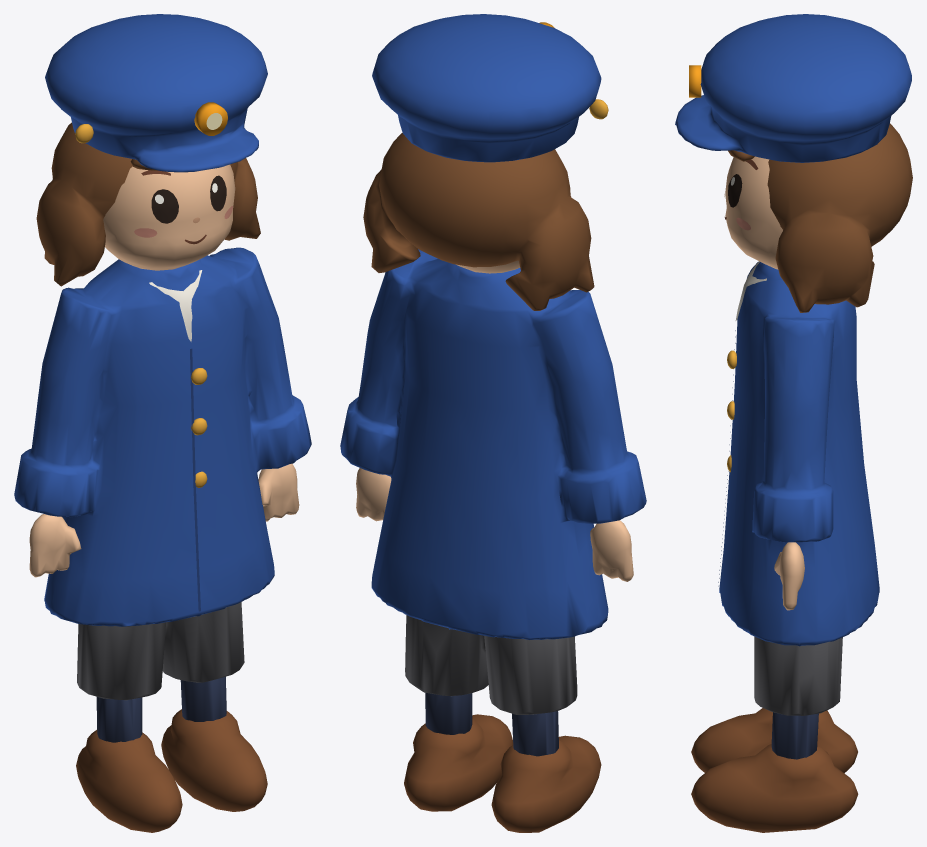
The model's file is passenger.glb.
The picture shows the model from 3 angles, left to right: view 1: azimuth 30°, elevation 25°; view 2: azimuth 150°, elevation 25°; view 3: azimuth 270°, elevation 25°; orthographic projection. The views are drawn at different scales.
Visible parts, largest first — view 1: passenger; view 2: passenger; view 3: passenger.
Part boxes in pixels (x1=…): passenger: x1=14, y1=14, x2=311, y2=832; passenger: x1=340, y1=14, x2=646, y2=832; passenger: x1=675, y1=14, x2=912, y2=832.
Size of the model in its own units: 0.5346 by 1.35 by 0.3803.
